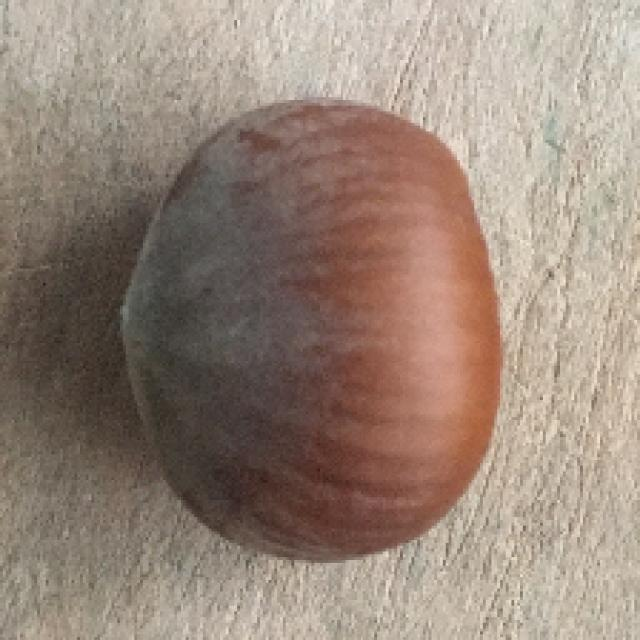qualityHazelnut: (118, 100, 508, 567)
